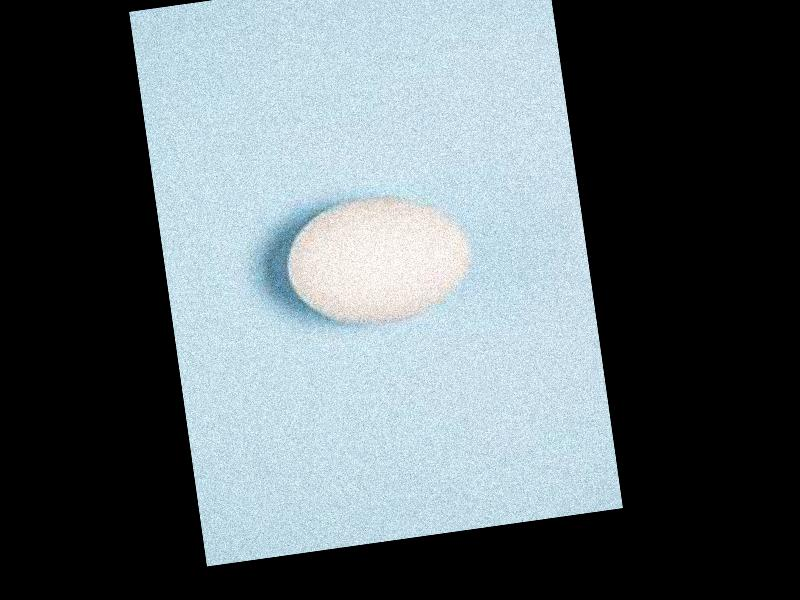Eggs: (279, 186, 481, 335)
